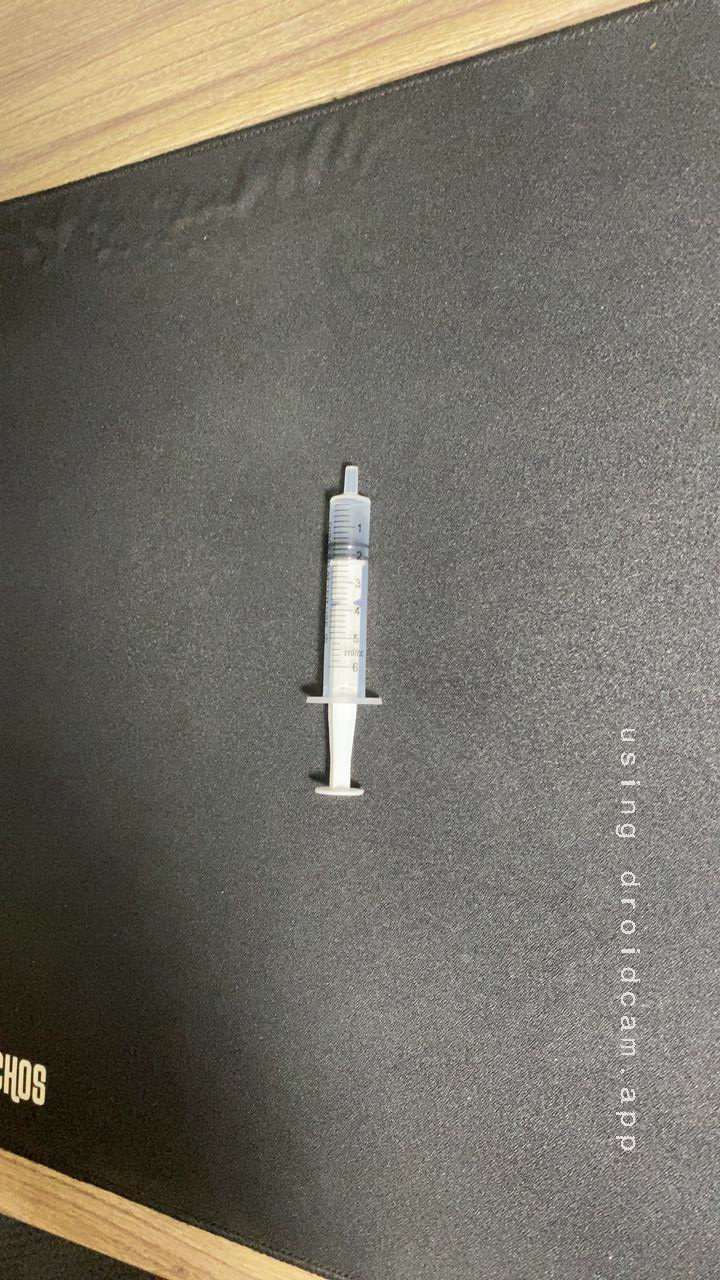syringe: (268, 451, 448, 829)
